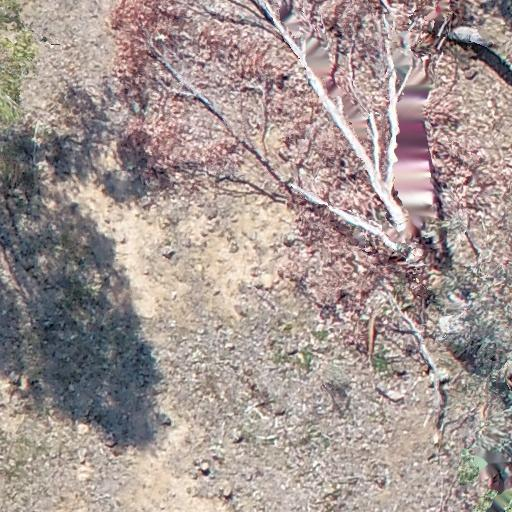stone: (156, 413, 172, 427), (9, 370, 22, 384), (160, 246, 176, 257), (76, 448, 86, 465), (102, 438, 117, 449), (212, 318, 224, 330), (253, 278, 264, 290), (233, 430, 244, 442), (78, 425, 90, 436), (228, 241, 238, 254), (200, 462, 211, 473), (118, 232, 126, 244), (225, 487, 233, 498), (213, 287, 220, 296)
